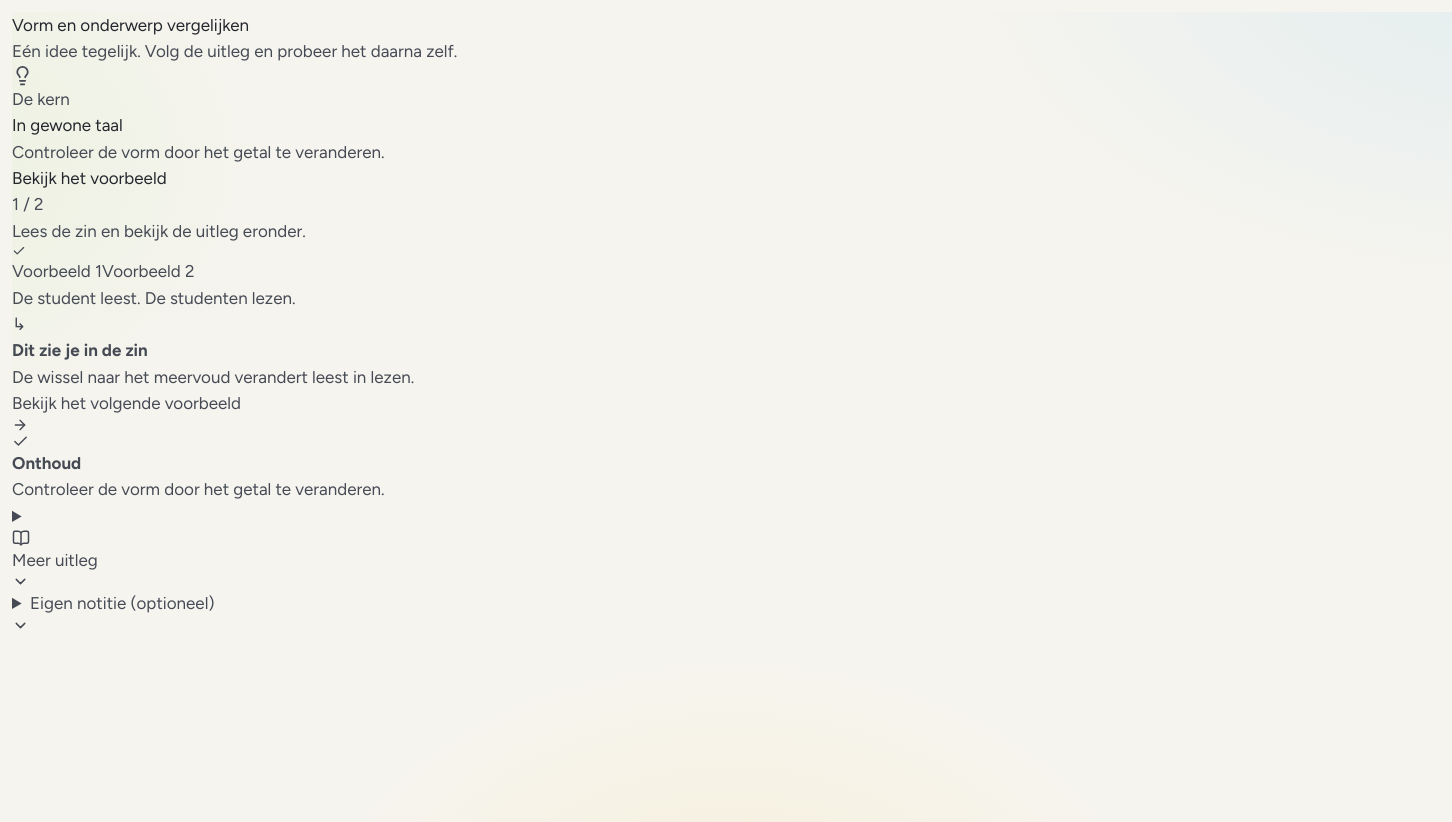
Test: interactie, hint en herstel in Ontleed › bewaart bekeken voorbeelden en een gekozen antwoord bij het wisselen
Step 1. Click the button "Voorbeeld 2" → (148, 272), box [102, 258, 194, 285]
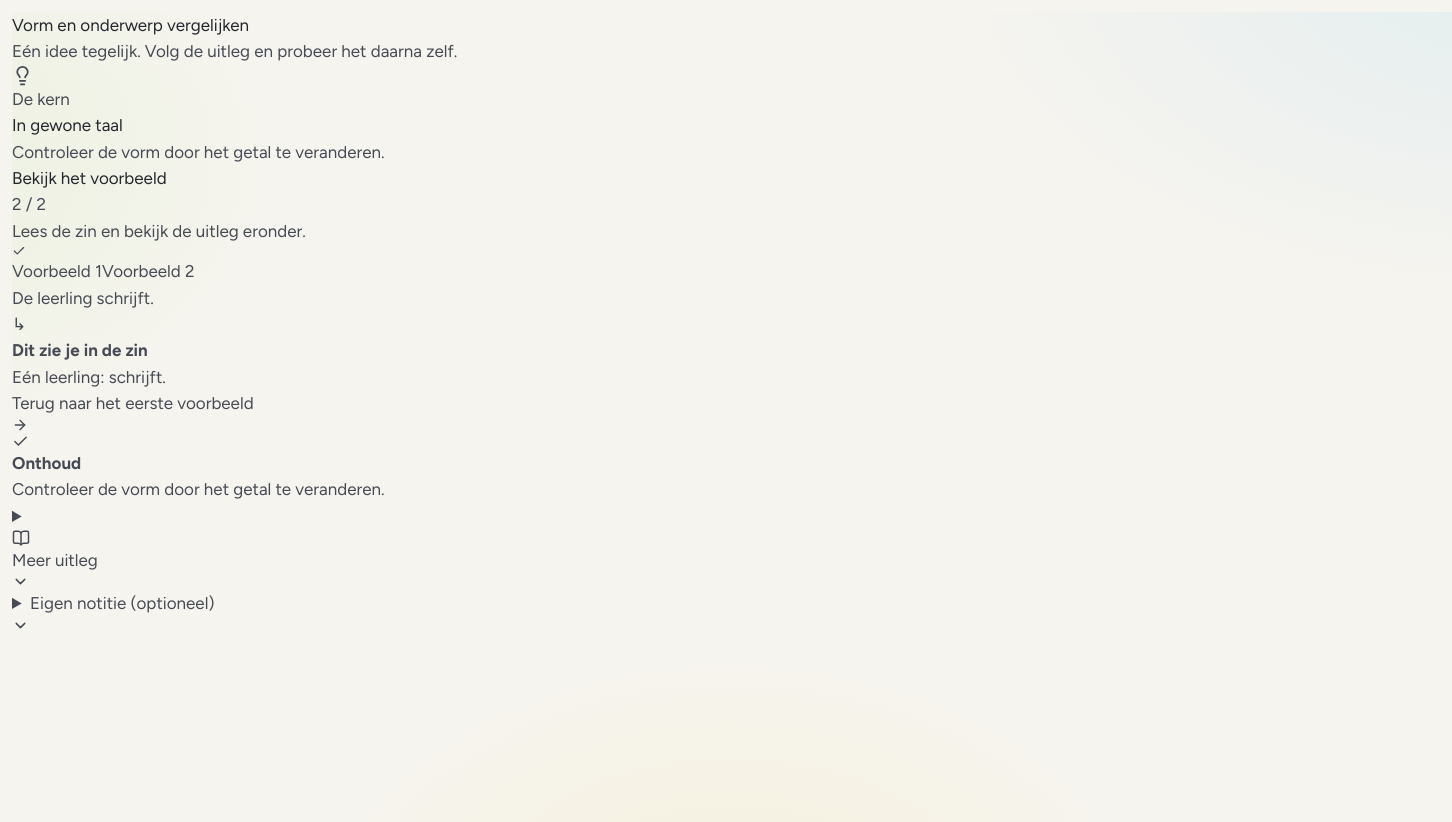
Expected: the text "Eén leerling: schrijft." is shown, [12, 367, 166, 387]
